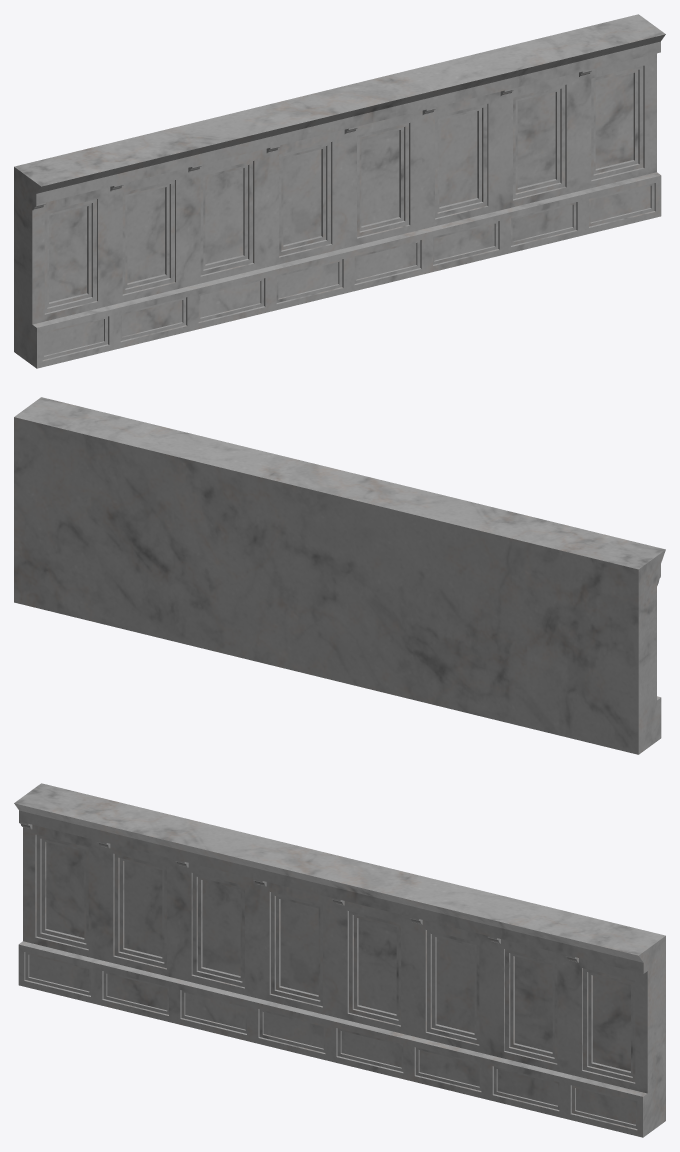
The model's file is WallFancy1.fbx.
3 views of the same model, one above another, from view 1: azimuth 30°, elevation 25°; view 2: azimuth 150°, elevation 25°; view 3: azimuth 330°, elevation 25° (orthographic).
Parts seen in each view (by area): view 1: Cube.001; view 2: Cube.001; view 3: Cube.001.
Part boxes in pixels (left/top/right/bottom): Cube.001: left=14, top=14, right=665, bottom=368; Cube.001: left=14, top=397, right=665, bottom=754; Cube.001: left=14, top=783, right=665, bottom=1137.
Size of the model in its own units: 800 by 227 by 60.69.
